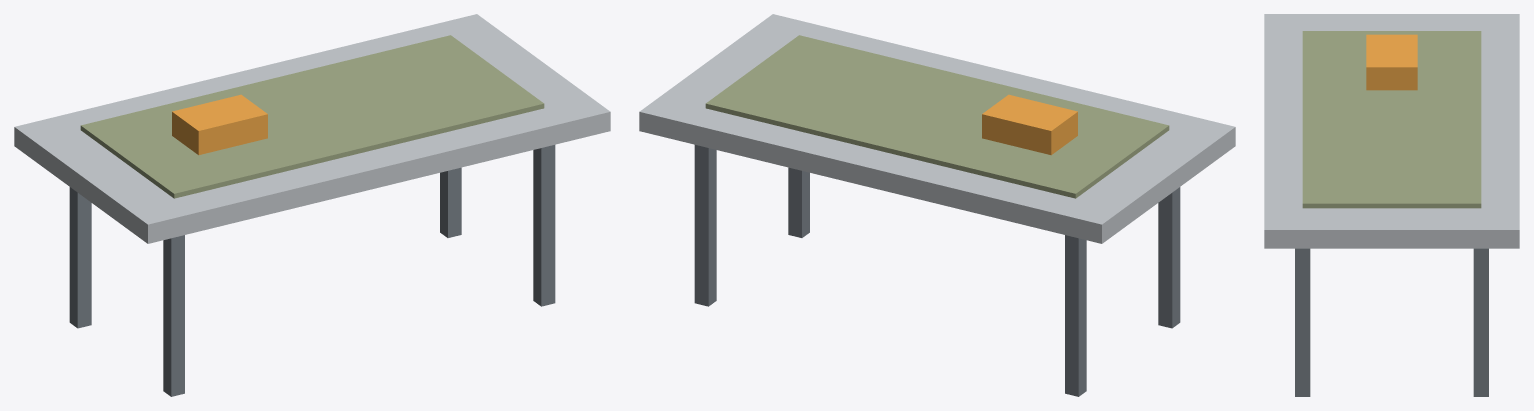
File: mech-hangar-and-battle-frames-briefing-table-9c74b74a__26992.glb
The picture shows the model from 3 angles, left to right: view 1: azimuth 30°, elevation 25°; view 2: azimuth 150°, elevation 25°; view 3: azimuth 270°, elevation 25°; orthographic projection. The views are drawn at different scales.
Visible parts, largest first — view 1: briefing-table; view 2: briefing-table; view 3: briefing-table.
Part boxes in pixels (bbox=[...]): briefing-table: bbox=[14, 14, 610, 396]; briefing-table: bbox=[639, 14, 1235, 396]; briefing-table: bbox=[1264, 14, 1519, 396].
Size of the model in its own units: 2 by 0.92 by 1.
